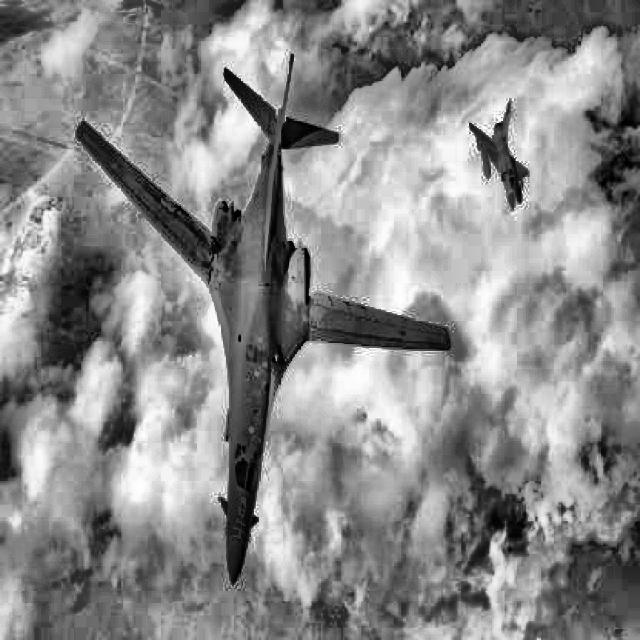B1: (76, 54, 452, 586)
Mirage2000: (468, 98, 528, 211)
